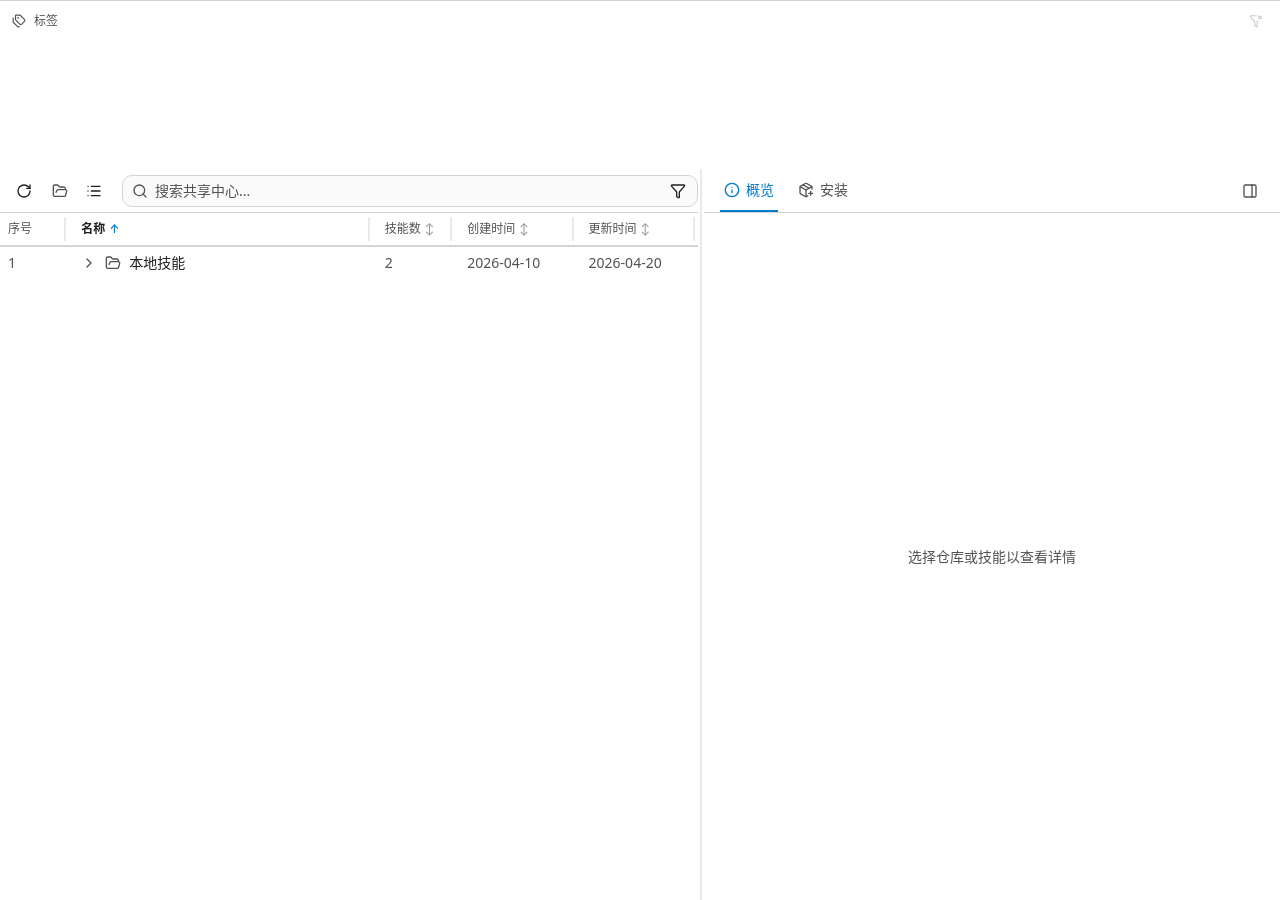
CentralSkillsView › keeps only delete actions in the central flat table
The width and height of the screenshot is (1280, 900).
Press + in the element named "技能列表", box [0, 169, 698, 281]
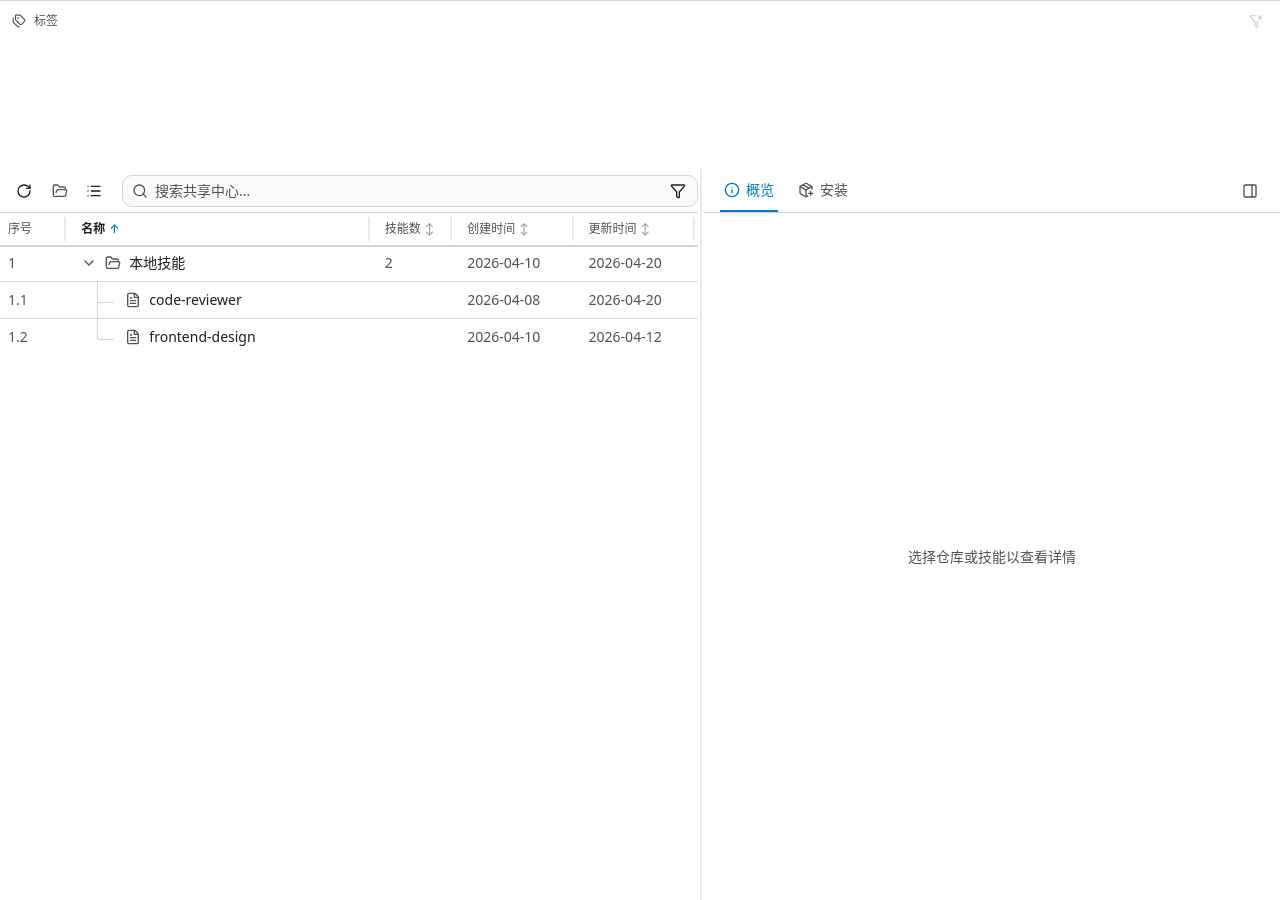
Right-click the row "1.1 code-reviewer 2026-04-08 2026-04-20": coordinates (349, 300) [0, 282, 698, 318]
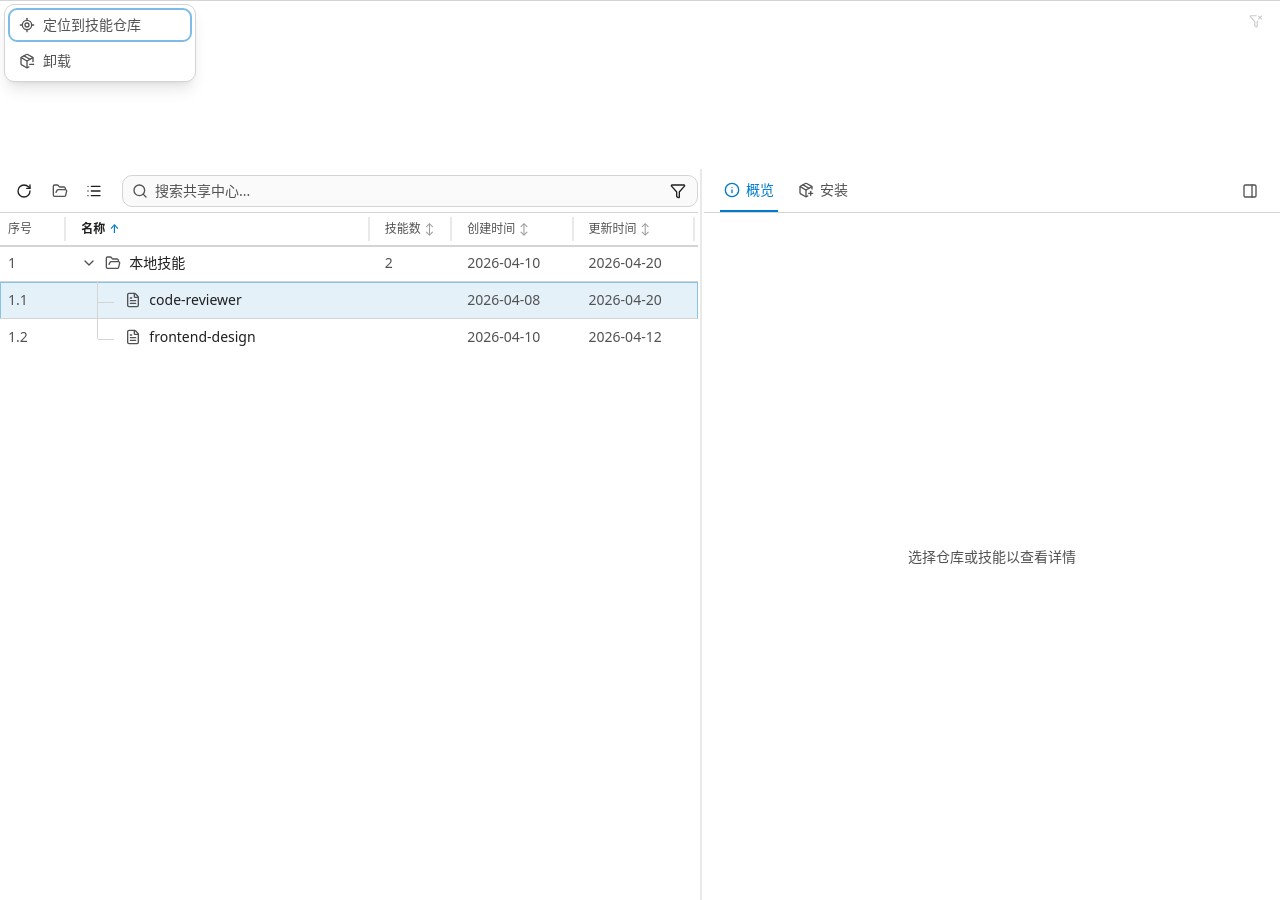
expect the number of menu items "卸载" is 1: met, box [9, 45, 191, 77]
